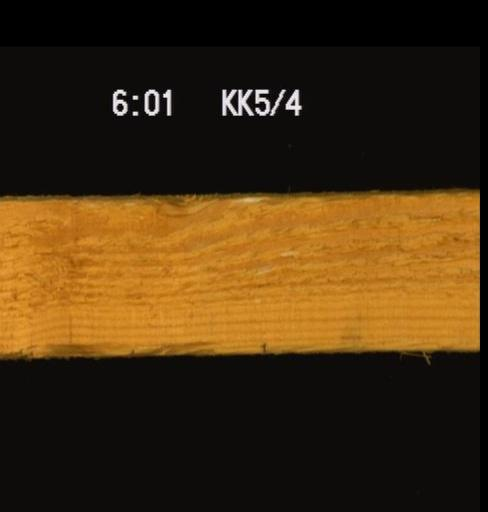edge_knot: (137, 193, 216, 221)
wave: (17, 323, 216, 354), (269, 333, 477, 352)
